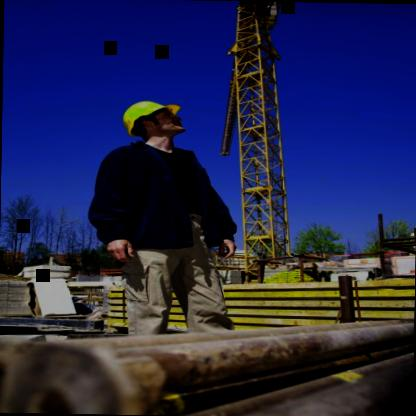helmet: (116, 95, 186, 143)
